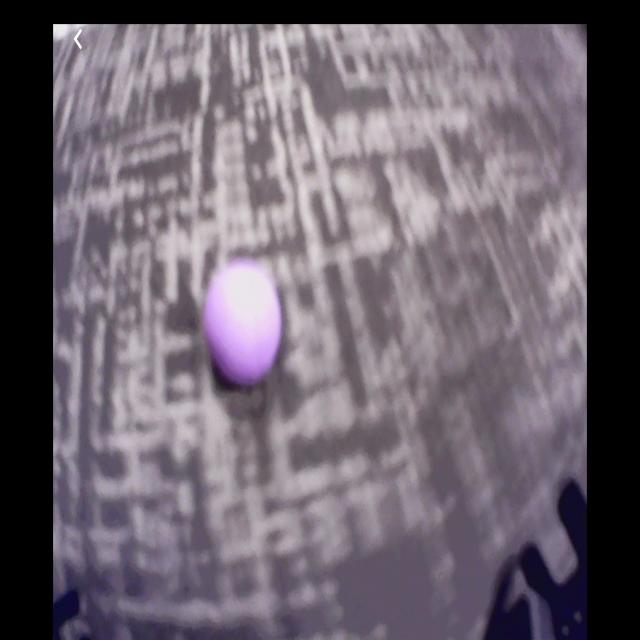ball: (207, 262, 282, 384)
